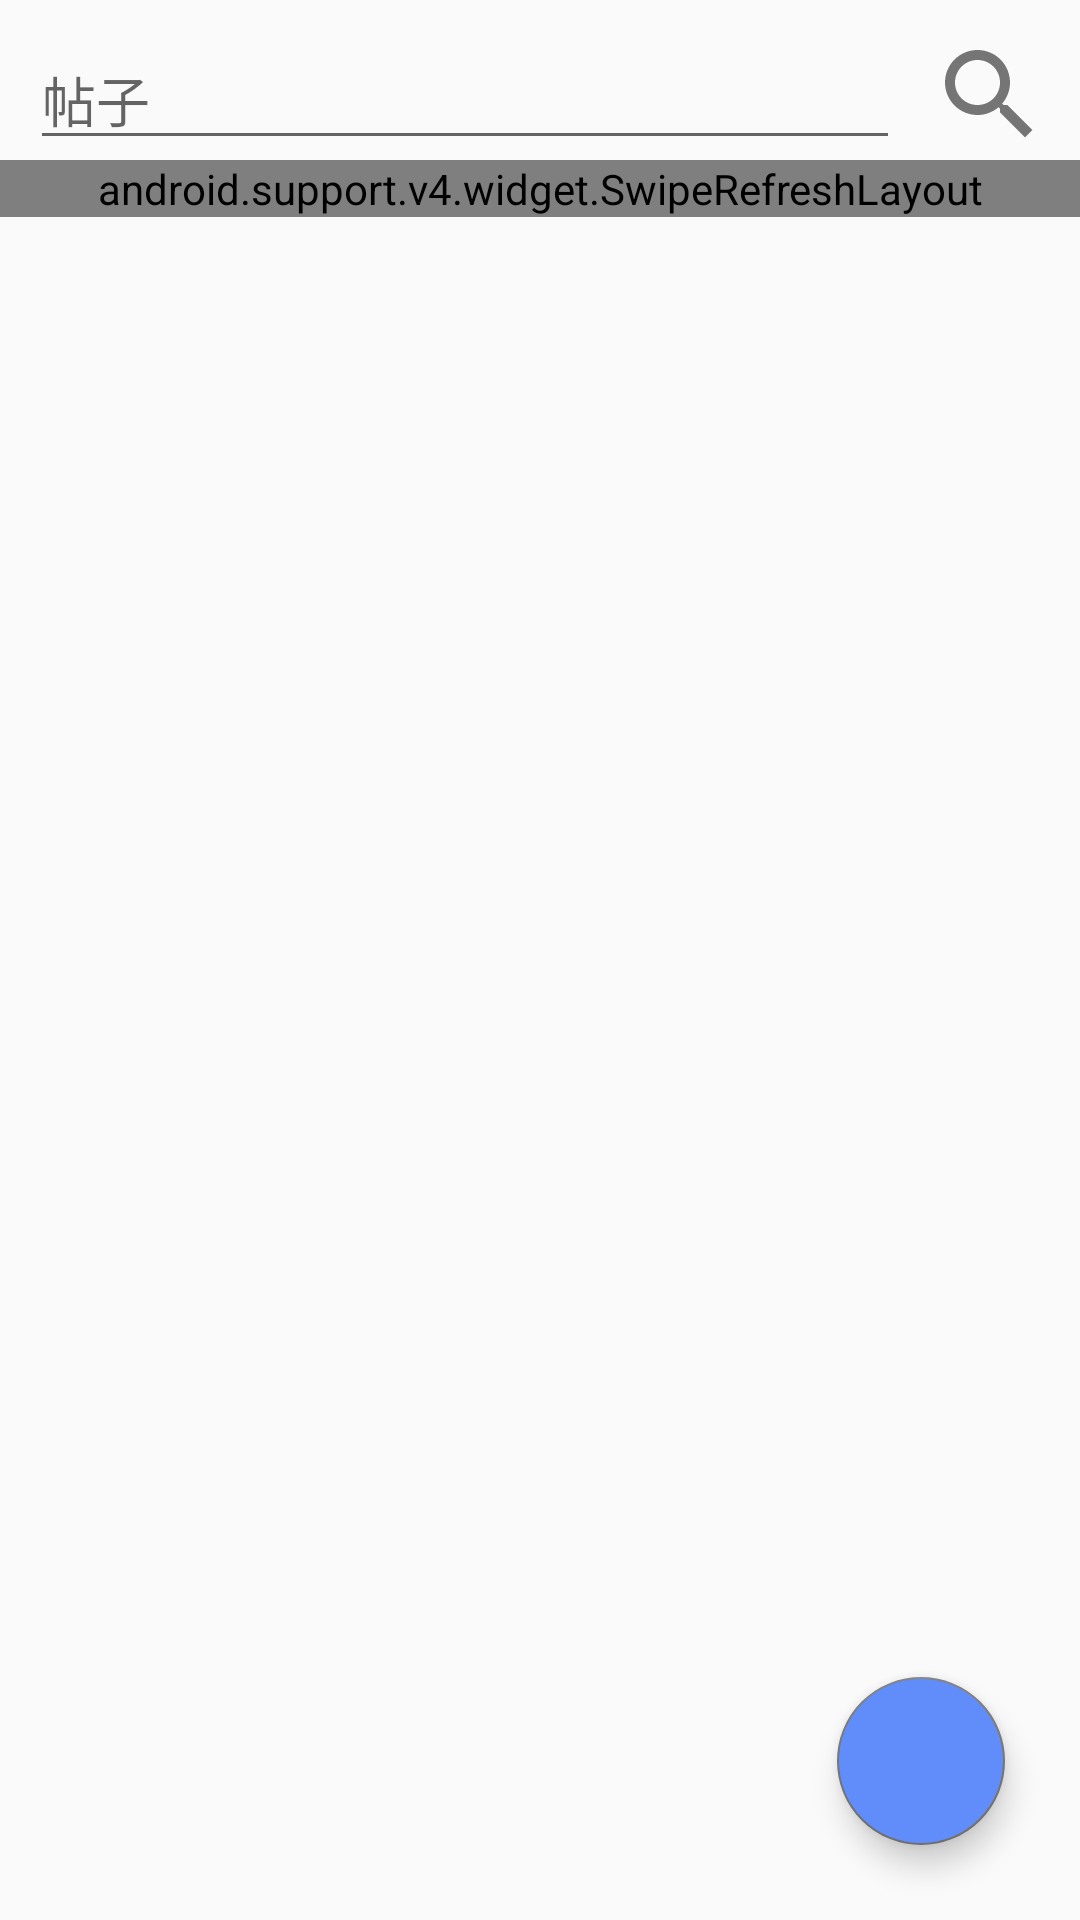

Named icons in this screenshot (1080px×1920px) and their bounding boxes, (x1,y1,x2,y2):
search: (945,50,1032,137)
